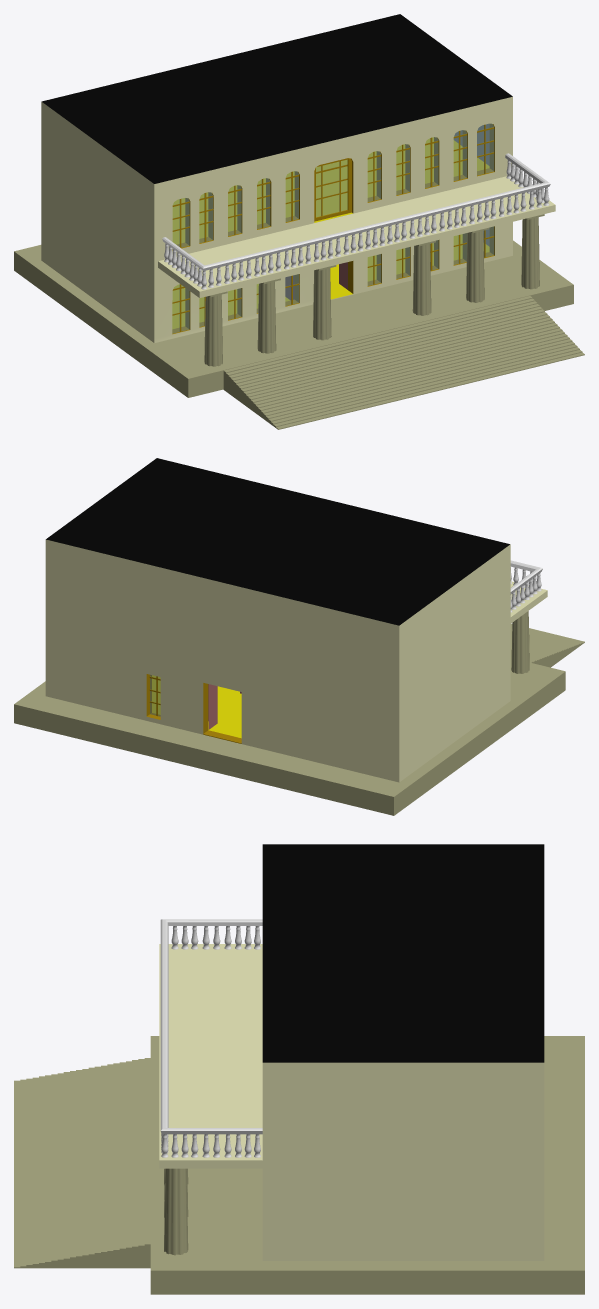
The model's file is Museum.fbx.
The picture shows the model from 3 angles, top to bottom: view 1: azimuth 30°, elevation 25°; view 2: azimuth 150°, elevation 25°; view 3: azimuth 270°, elevation 25°; orthographic projection. The views are drawn at different scales.
Parts seen in each view (by area): view 1: Museum, Stairs, Fundation, Balcon, Colon, SecondFloor, Window19, Window21, Window3, Window8, Window20, Window16 (+8 smaller); view 2: Museum, Fundation, Stairs, Balcon, Colon; view 3: Museum, Fundation, Stairs, Balcon, Colon.
Part boxes in pixels (x1,y1,x2,y2): Museum: [41, 14, 555, 342]; Stairs: [223, 296, 584, 429]; Fundation: [14, 240, 573, 397]; Balcon: [162, 153, 550, 289]; Colon: [204, 214, 544, 366]; SecondFloor: [173, 137, 489, 244]; Window19: [477, 123, 494, 175]; Window21: [331, 160, 347, 213]; Window3: [172, 198, 189, 249]; Window8: [172, 284, 189, 333]; Window20: [316, 163, 331, 217]; Window16: [367, 151, 381, 201]; Museum: [45, 458, 547, 782]; Fundation: [14, 658, 565, 815]; Stairs: [510, 623, 584, 667]; Balcon: [510, 560, 542, 612]; Colon: [511, 611, 529, 673]; Museum: [159, 844, 544, 1260]; Fundation: [150, 1036, 584, 1294]; Stairs: [14, 1058, 150, 1268]; Balcon: [160, 919, 262, 1157]; Colon: [164, 1168, 188, 1255].
Bounding box in the file's own units: 0.2099 × 0.0929 × 0.216.
